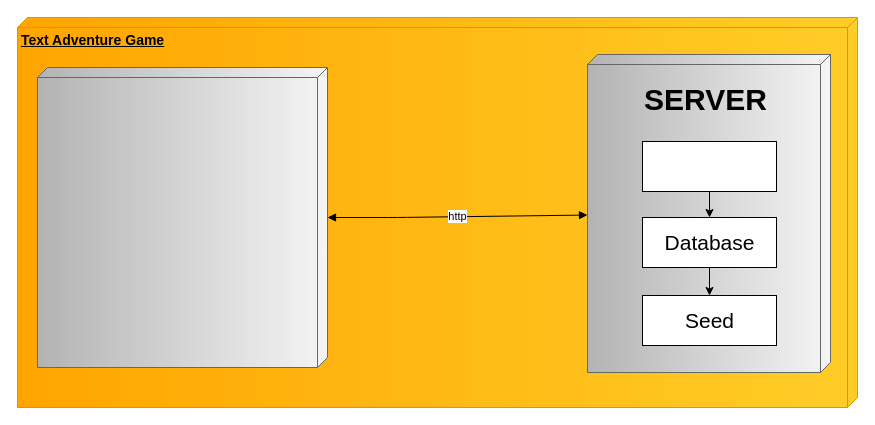
This 875x425 diagram has some shape labels left out. The centre of each missing label's shape, as x and y in pixels:
CLIENT: [182,217]
Web Browser: [709,166]
